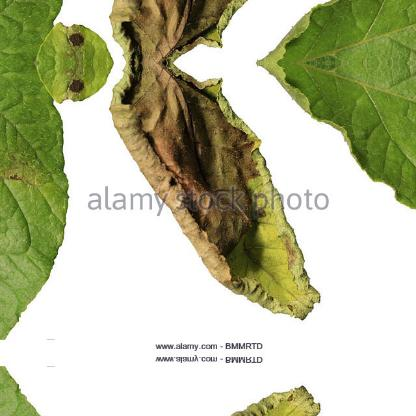Early-Blight: (102, 63, 348, 322), (102, 0, 348, 61), (33, 62, 111, 108), (33, 16, 111, 62)
